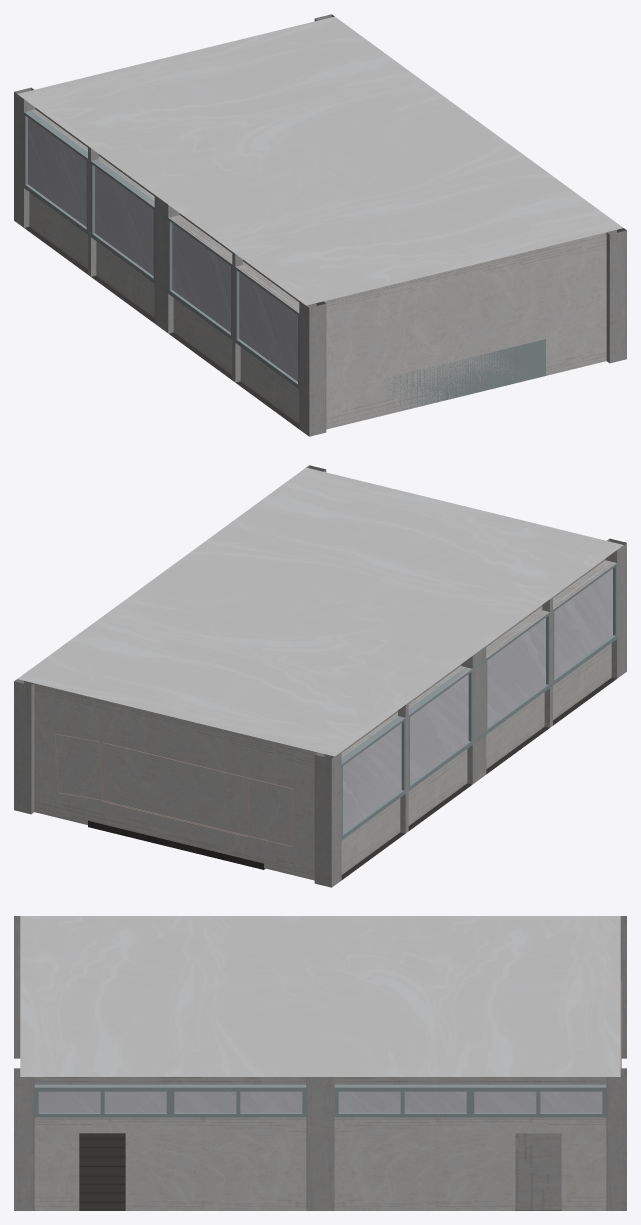
File: export classroom.fbx
3 renders of one model, top to bottom at view 1: azimuth 30°, elevation 25°; view 2: azimuth 150°, elevation 25°; view 3: azimuth 270°, elevation 25°, orthographic. The views are drawn at different scales.
Visible parts, largest first — view 1: classroom_floor_ceiling, classroom walls, classroom stuff; view 2: classroom_floor_ceiling, classroom walls, classroom stuff; view 3: classroom_floor_ceiling, classroom walls, classroom stuff, classroom stuff.001.
Boxes of the visible parts, x1=… form: classroom_floor_ceiling: x1=17, y1=16, x2=623, y2=428; classroom walls: x1=14, y1=14, x2=626, y2=436; classroom stuff: x1=24, y1=110, x2=545, y2=412; classroom_floor_ceiling: x1=17, y1=467, x2=623, y2=879; classroom walls: x1=14, y1=465, x2=626, y2=887; classroom stuff: x1=55, y1=563, x2=616, y2=846; classroom_floor_ceiling: x1=20, y1=916, x2=620, y2=1210; classroom walls: x1=14, y1=916, x2=626, y2=1210; classroom stuff: x1=34, y1=981, x2=621, y2=1117; classroom stuff.001: x1=515, y1=1133, x2=561, y2=1210.
Size of the model in its own units: 13.87 by 5.45 by 22.32.
Materials: 10 (2 with a texture image).
